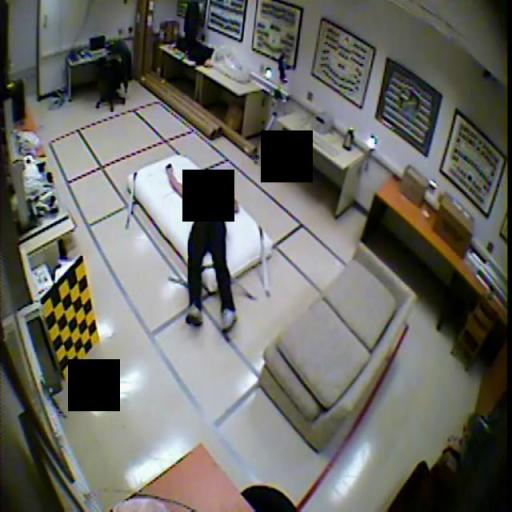Fall: (165, 161, 239, 333)
